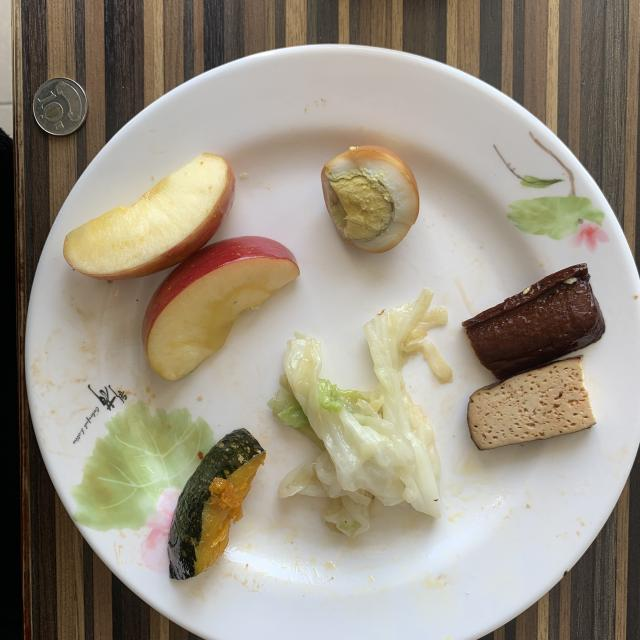apple -sliced-: (64, 154, 299, 380)
cabbage: (270, 289, 451, 536)
coin: (32, 78, 88, 135)
firm tofu: (462, 264, 605, 450)
pumpkin: (168, 429, 266, 580)
soy egg: (321, 145, 419, 252)
